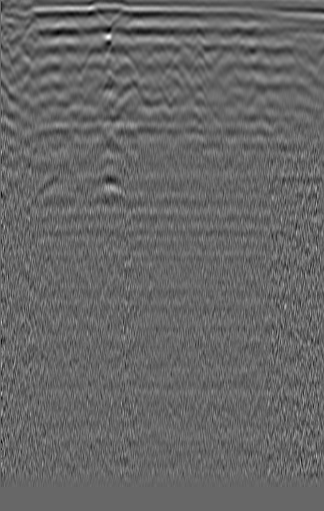가스: (89, 170, 129, 204)
상수: (18, 29, 43, 49)
오수: (284, 27, 315, 57)
우수: (143, 39, 174, 68)
